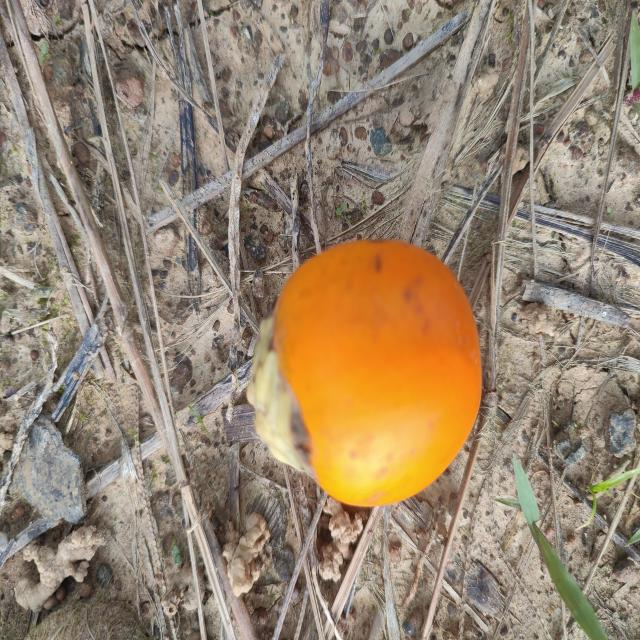good: (248, 241, 481, 507)
